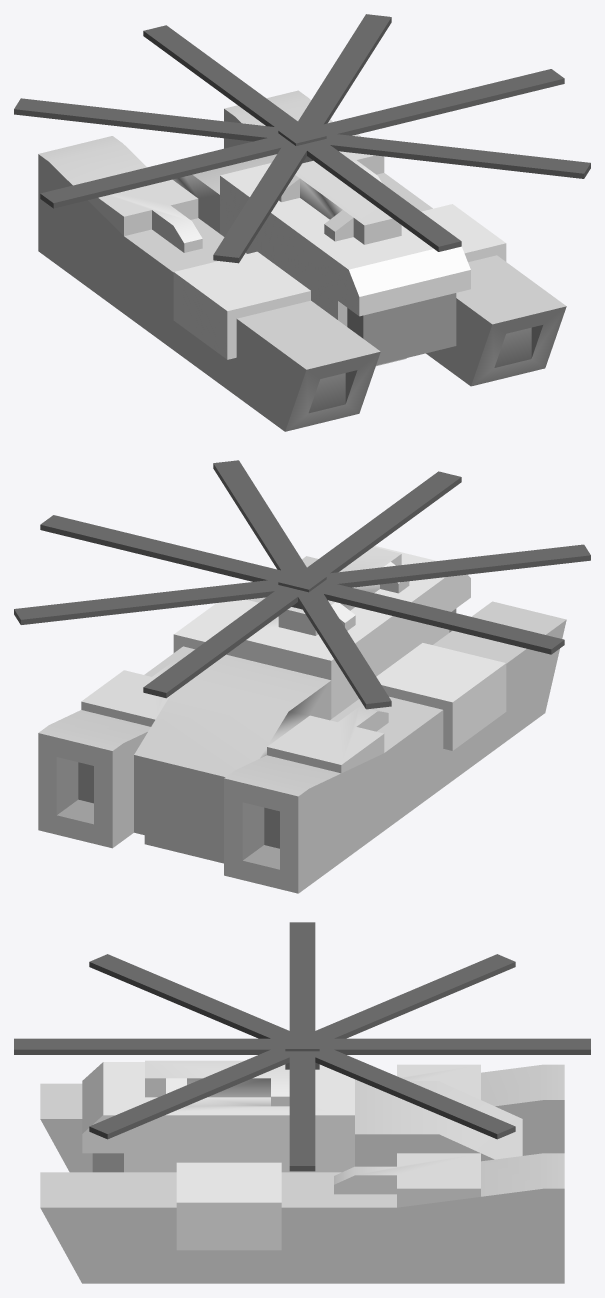
File: bullion_truck.glb
3 views of the same model, one above another, from view 1: azimuth 30°, elevation 25°; view 2: azimuth 150°, elevation 25°; view 3: azimuth 270°, elevation 25° (orthographic). The views are drawn at different scales.
Parts seen in each view (by area): view 1: Body, Rotor; view 2: Body, Rotor; view 3: Body, Rotor.
Boxes of the visible parts, bbox=[...] form: Body: bbox=[38, 90, 566, 431]; Rotor: bbox=[14, 14, 590, 263]; Body: bbox=[38, 546, 566, 893]; Rotor: bbox=[14, 460, 590, 709]; Body: bbox=[40, 1060, 564, 1283]; Rotor: bbox=[14, 922, 590, 1171].
Bounding box in the file's own units: 11 × 4.19 × 11.
2 materials, 1 textured.
